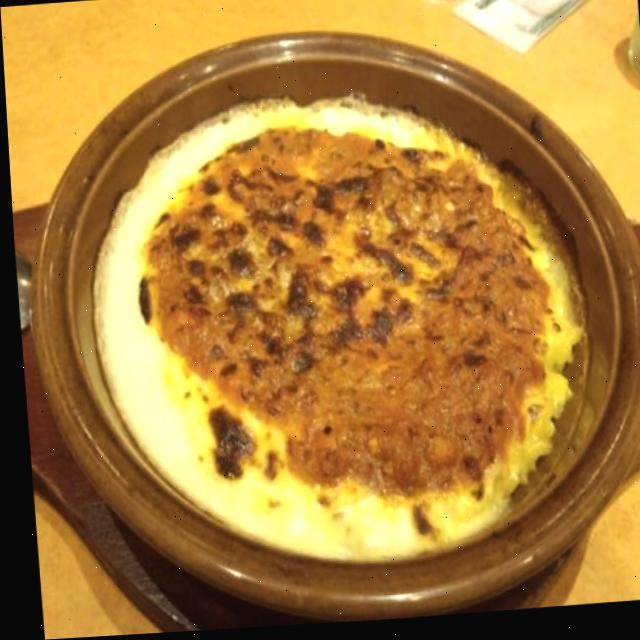米饭主食: (42, 35, 618, 601)
